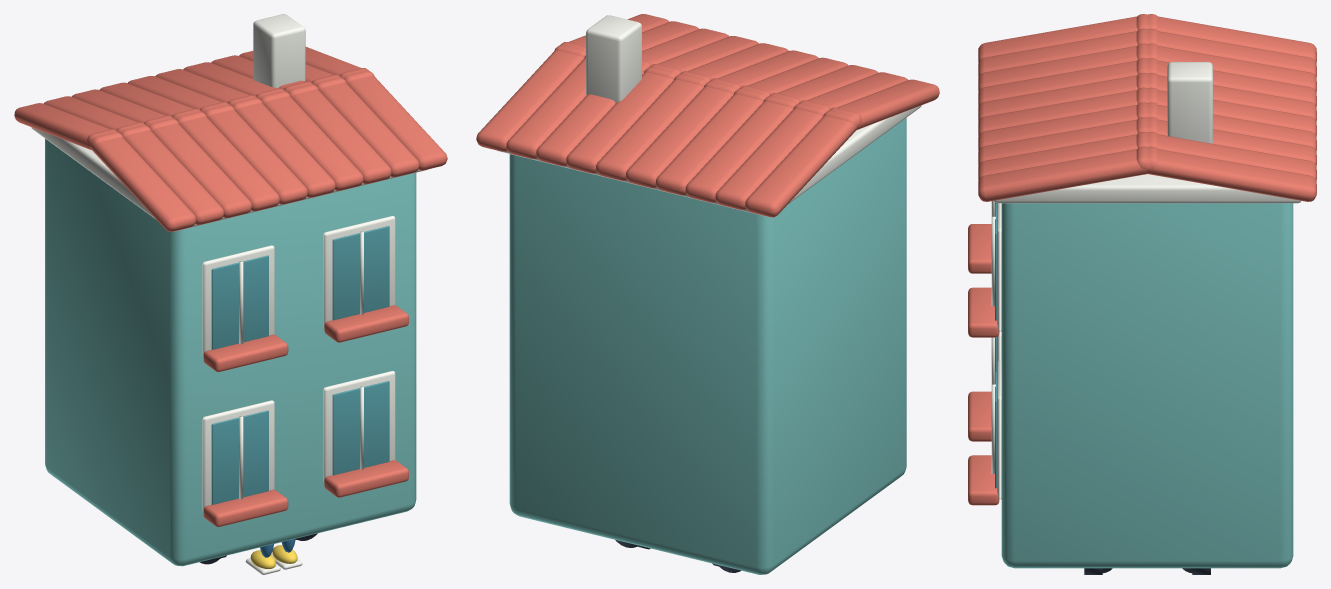
Rendered from seaside.glb.
3 renders of one model, left to right at view 1: azimuth 30°, elevation 25°; view 2: azimuth 150°, elevation 25°; view 3: azimuth 270°, elevation 25°, orthographic. The views are drawn at different scales.
Visible parts, largest first — view 1: Plaster, House_Coral roof tiles, House_Painted blue windows, House_Chalk; view 2: Plaster, House_Coral roof tiles, House_Chalk; view 3: Plaster, House_Coral roof tiles, House_Chalk, House_Painted blue windows.
Part boxes in pixels (<box>): Plaster: <box>45,138,416,566</box>; House_Coral roof tiles: <box>14,47,447,526</box>; House_Painted blue windows: <box>211,226,389,504</box>; House_Chalk: <box>31,14,427,511</box>; Plaster: <box>509,118,906,574</box>; House_Coral roof tiles: <box>476,14,939,217</box>; House_Chalk: <box>497,15,921,216</box>; Plaster: <box>1001,203,1293,568</box>; House_Coral roof tiles: <box>968,14,1316,505</box>; House_Chalk: <box>991,62,1300,499</box>; House_Painted blue windows: <box>995,203,996,488</box>.
Bounding box in the file's own units: 4.95 × 8.02 × 4.9.
